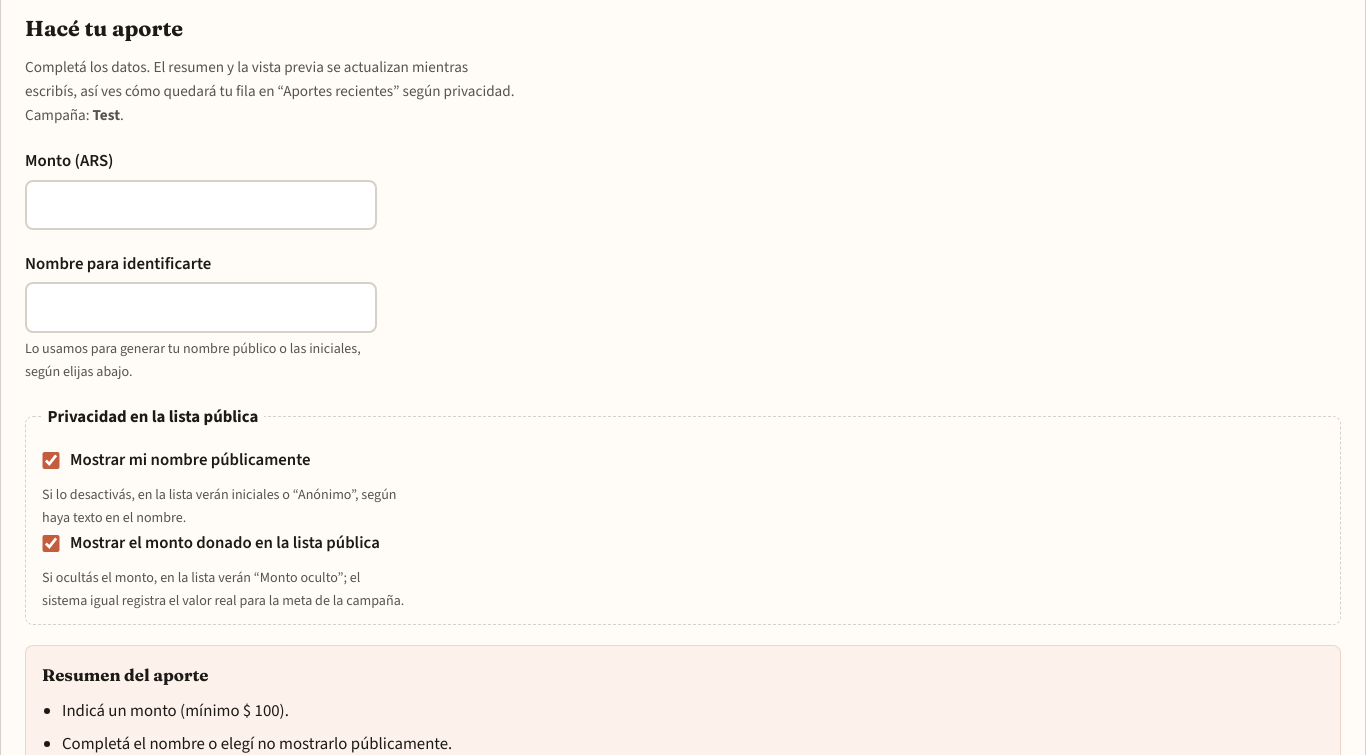
Test: ContributionForm — comportamiento observable (smart-testing) › si el donante oculta el nombre público, la vista previa muestra iniciales (no el nombre completo)
Step 1. Type "200" into the number field labelled "Monto (ARS)" → (201, 205), box x1=25 y1=180 x2=377 y2=230
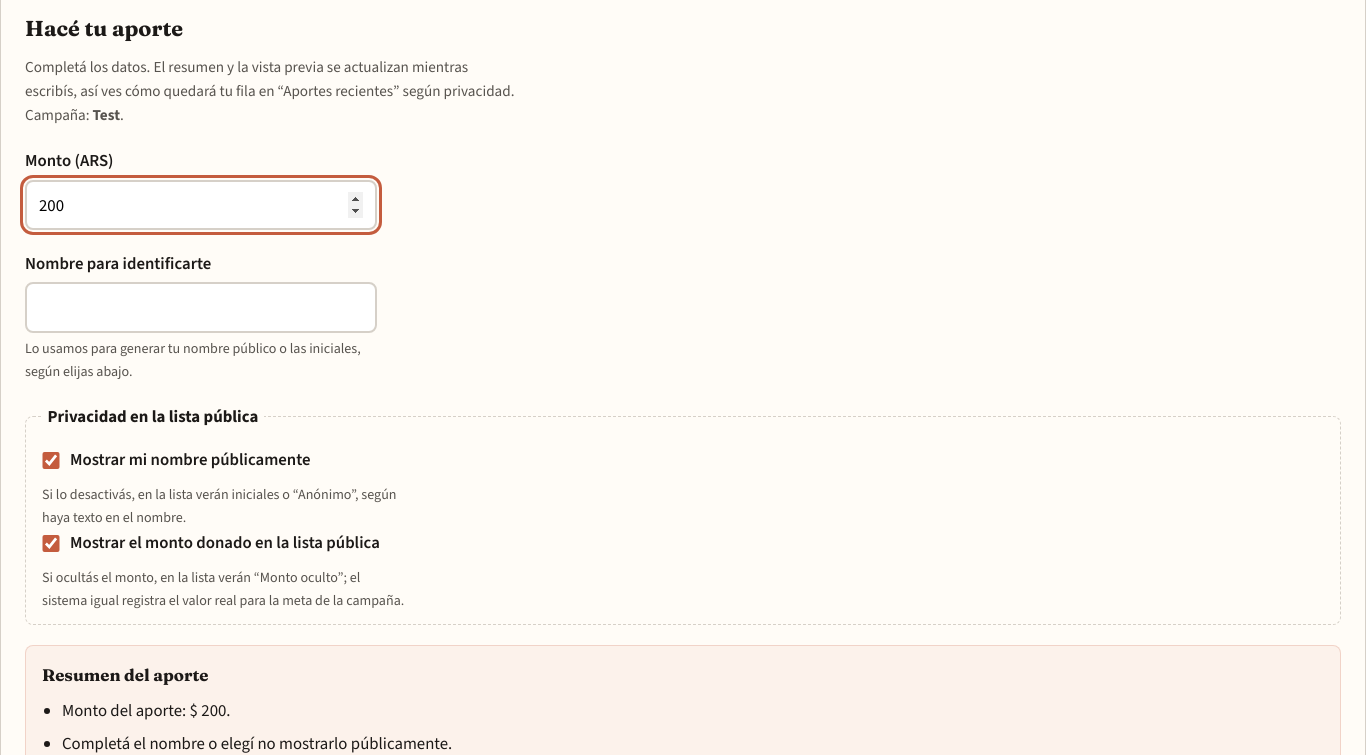
Step 2. Type "Ana López" into the field labelled "Nombre para identificarte" → (201, 308), box x1=25 y1=282 x2=377 y2=333
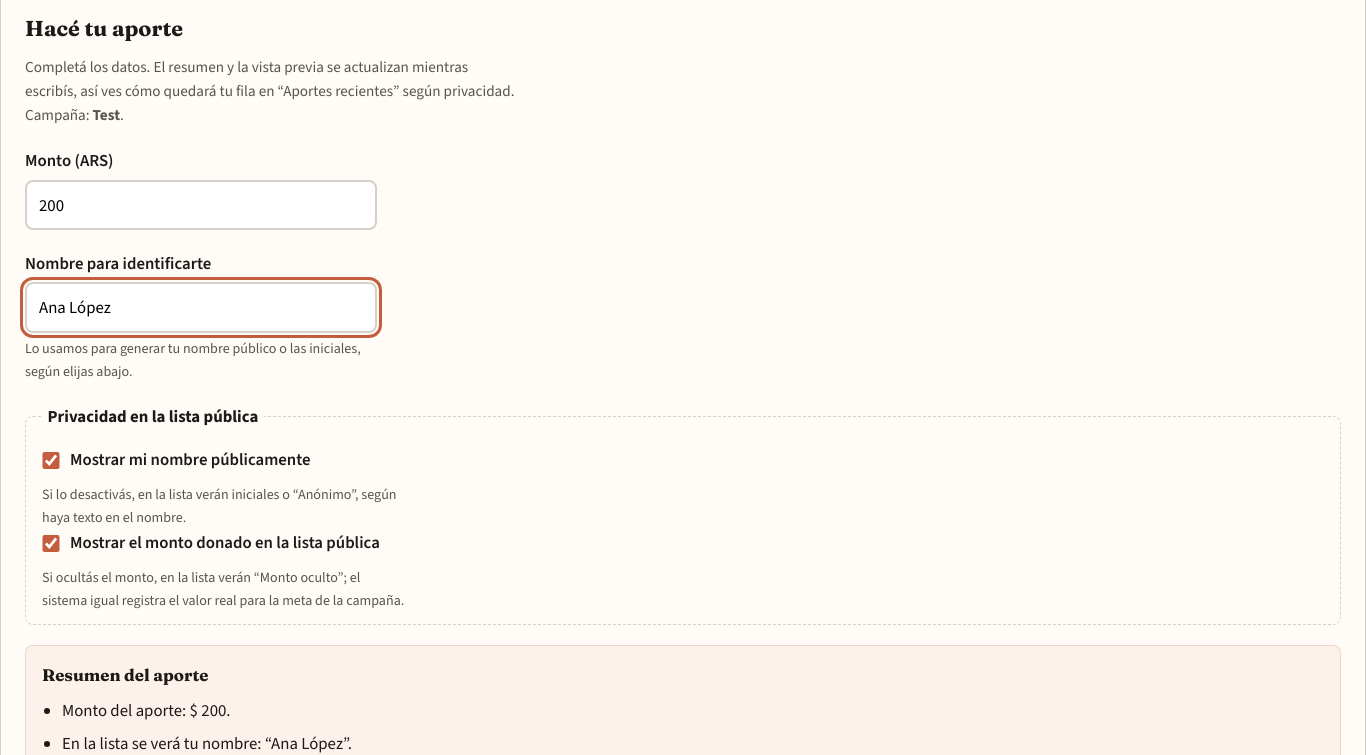
Step 3. Click the checkbox labelled "Mostrar mi nombre públicamente" → (51, 460), box x1=42 y1=452 x2=60 y2=469
(page scrolled)
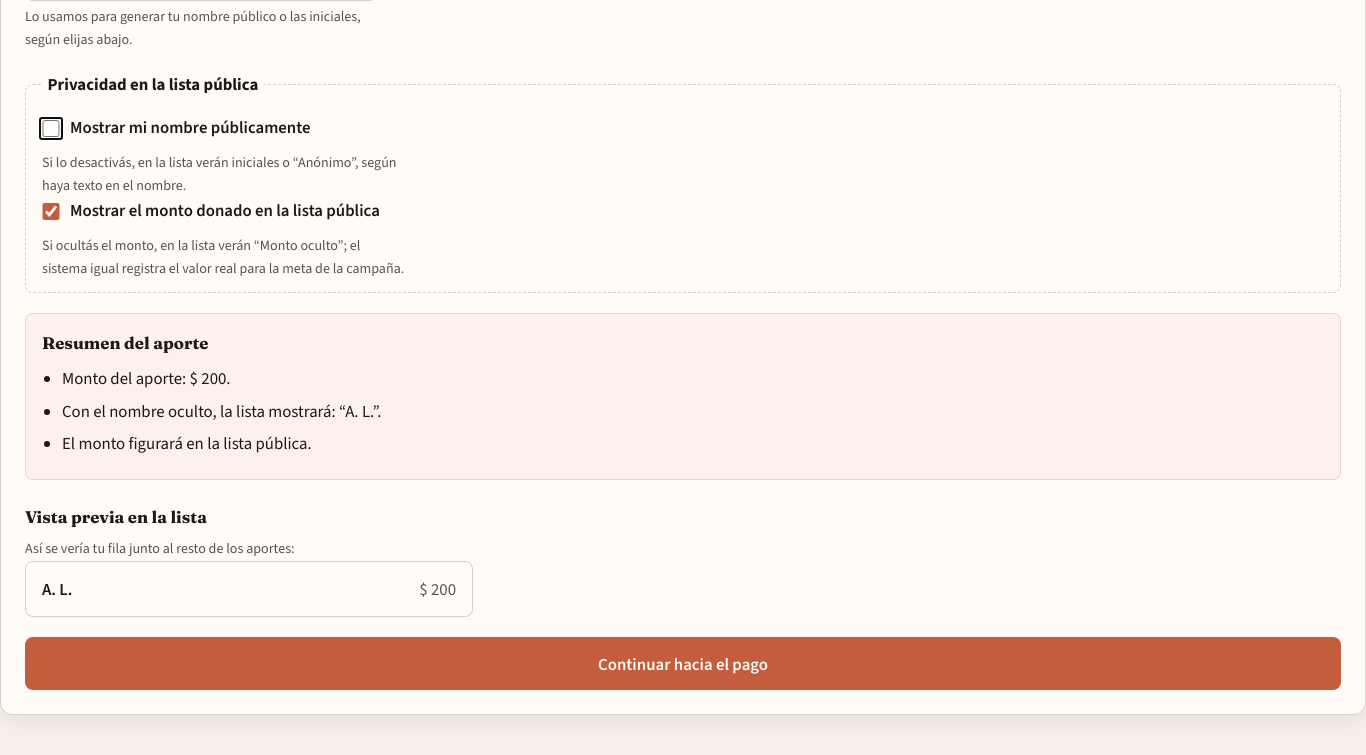
Check: the list item "A. L. $ 200" is shown, box x1=25 y1=561 x2=473 y2=617
Check: the list item "A. L. $ 200" no longer shows "Ana López", box x1=25 y1=561 x2=473 y2=617
